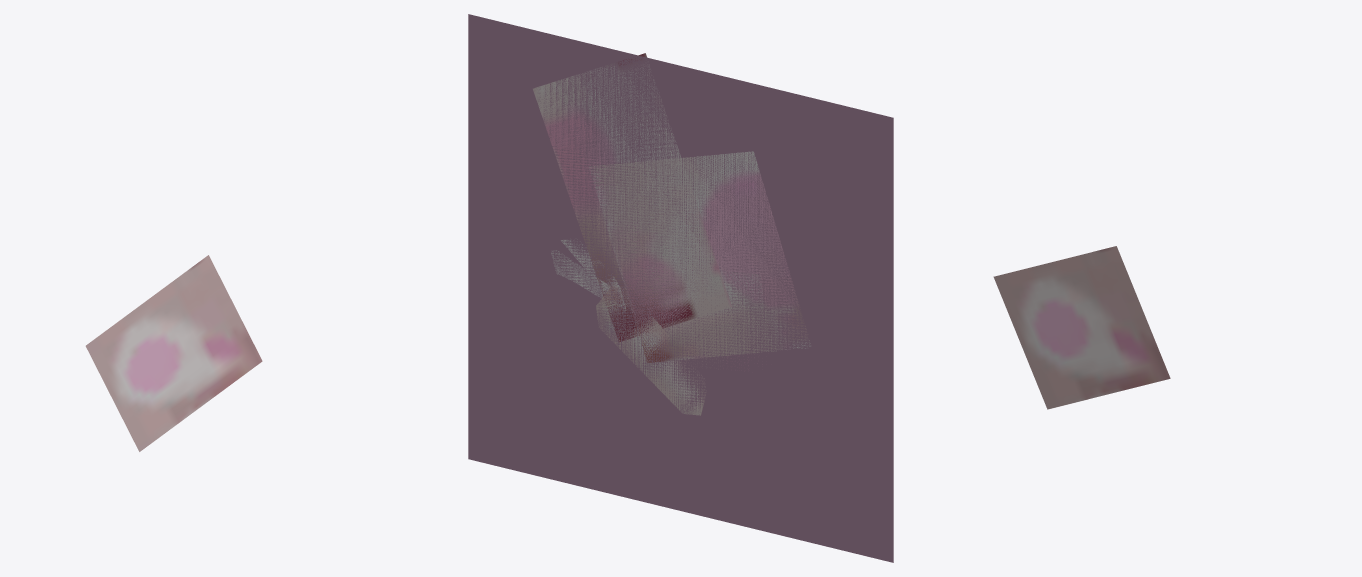
Rendered from Butterfly_0.glb.
3 views of the same model, side by side, from view 1: azimuth 30°, elevation 25°; view 2: azimuth 150°, elevation 25°; view 3: azimuth 330°, elevation 25° (orthographic).
Visible parts, largest first — view 1: Butterfly; view 2: Butterfly; view 3: Butterfly.
Boxes of the visible parts, x1,y1,x2,y2 form: Butterfly: (85, 255, 262, 451); Butterfly: (468, 14, 893, 562); Butterfly: (993, 246, 1170, 409).
Bounding box in the file's own units: 0.6287 × 0.6348 × 0.
Materials: 1 (1 with a texture image).
